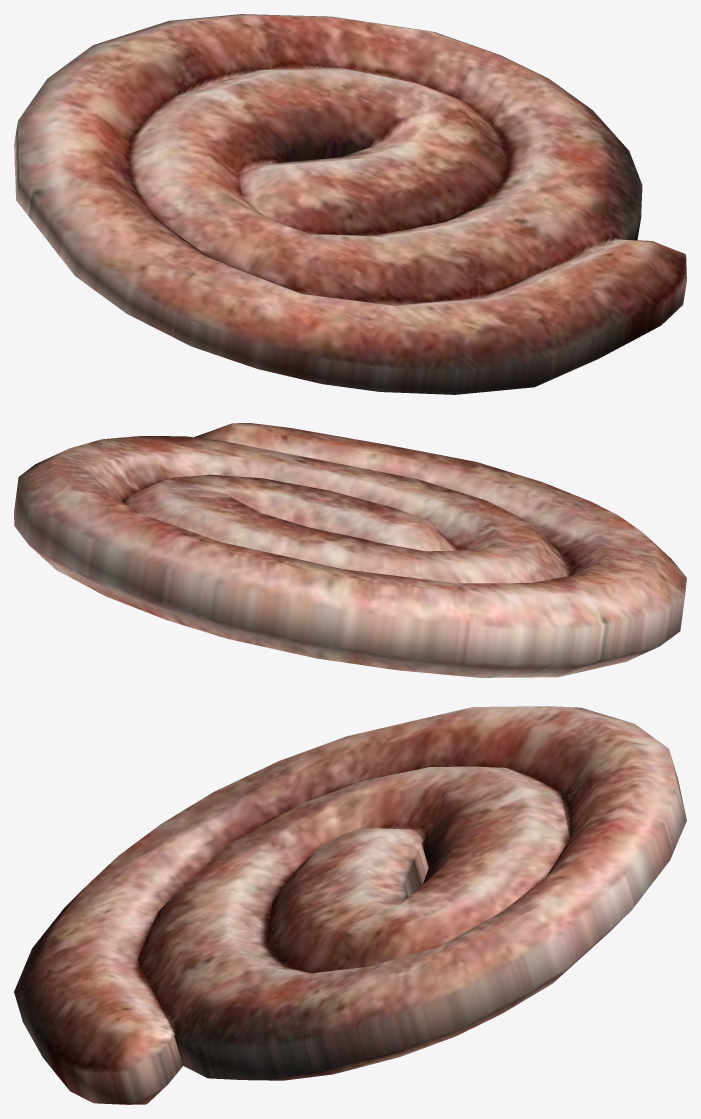
The model's file is sausage.dae.
3 renders of one model, top to bottom at view 1: azimuth 30°, elevation 25°; view 2: azimuth 150°, elevation 25°; view 3: azimuth 270°, elevation 25°, orthographic. The views are drawn at different scales.
Visible parts, largest first — view 1: Component_75; view 2: Component_75; view 3: Component_75.
Boxes of the visible parts, x1=… form: Component_75: x1=14, y1=14, x2=686, y2=394; Component_75: x1=14, y1=423, x2=686, y2=677; Component_75: x1=14, y1=706, x2=686, y2=1104.
Size of the model in its own units: 10.35 by 10.19 by 3.6.
2 materials, 1 textured.
